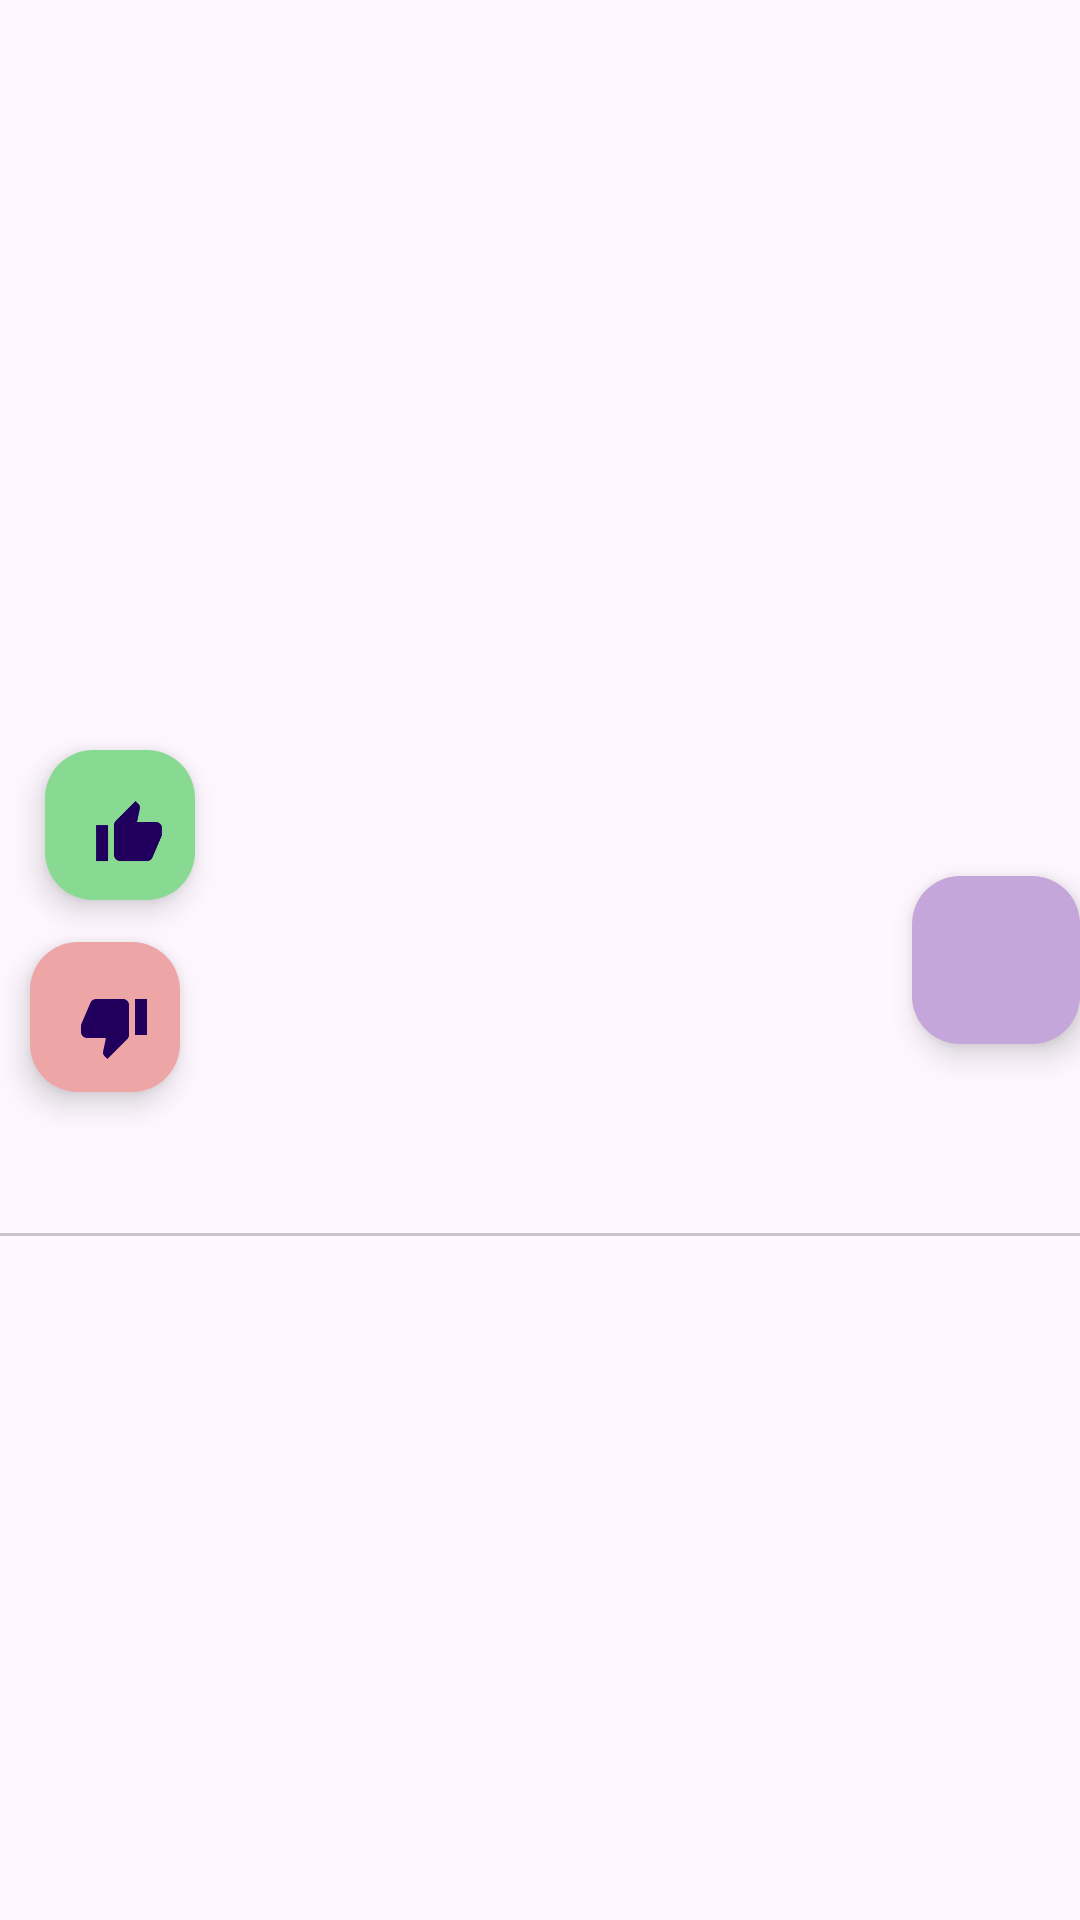

Locate icon controls on the screen. Image size 1080 x 1920, boxes as Rect(x1, y1, x2, y2).
dislike: Rect(30, 942, 180, 1092)
like: Rect(45, 750, 195, 900)
